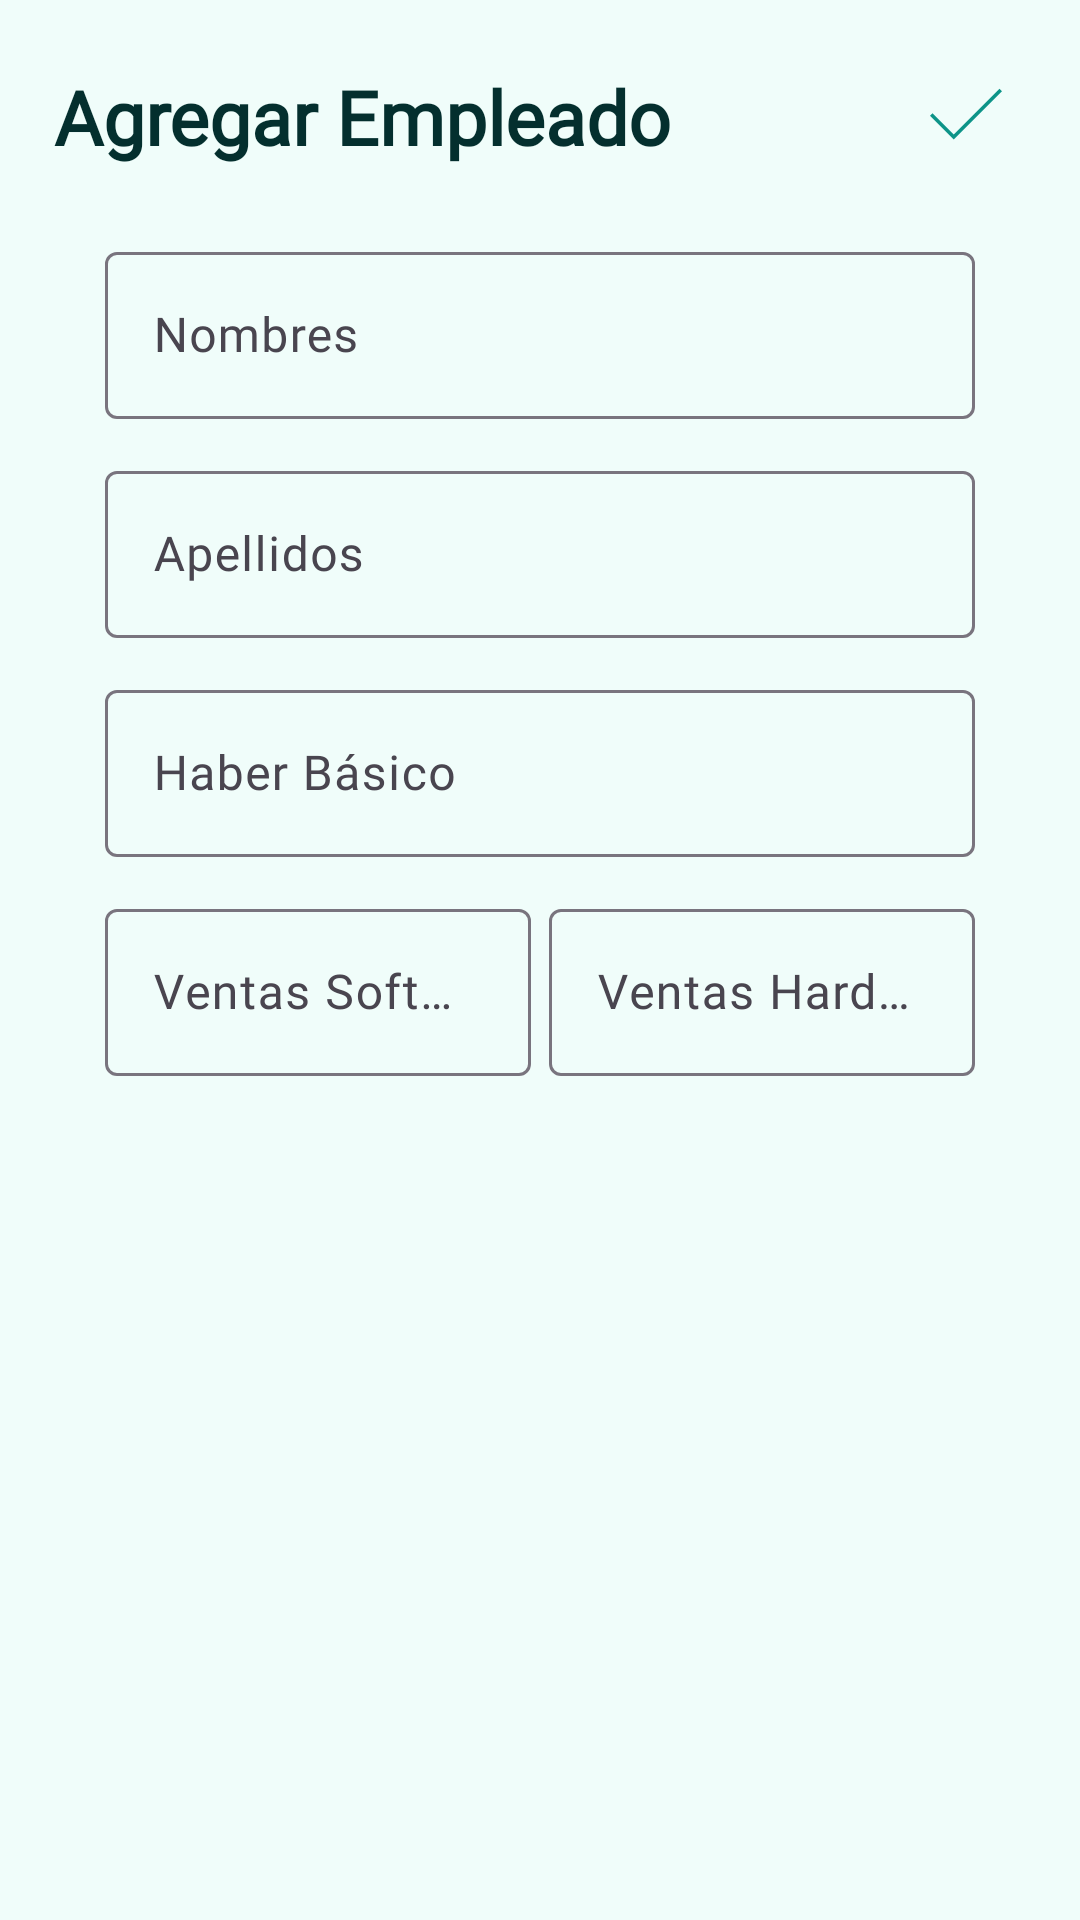

Named icons in this screenshot (1080 x 1920) and their bounding boxes, (x1=x1, y1=y1, x2=x2, y2=y2):
Guardar: (x1=930, y1=89, x2=1002, y2=140)
